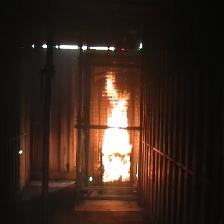fire: (102, 71, 132, 182)
